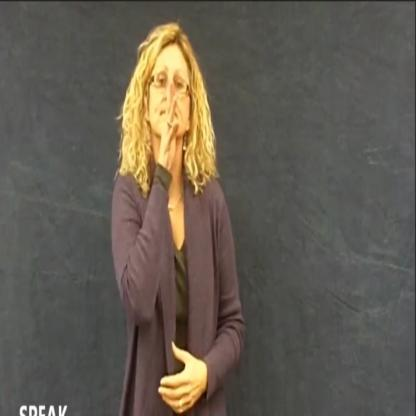Talk: (110, 27, 245, 416)
